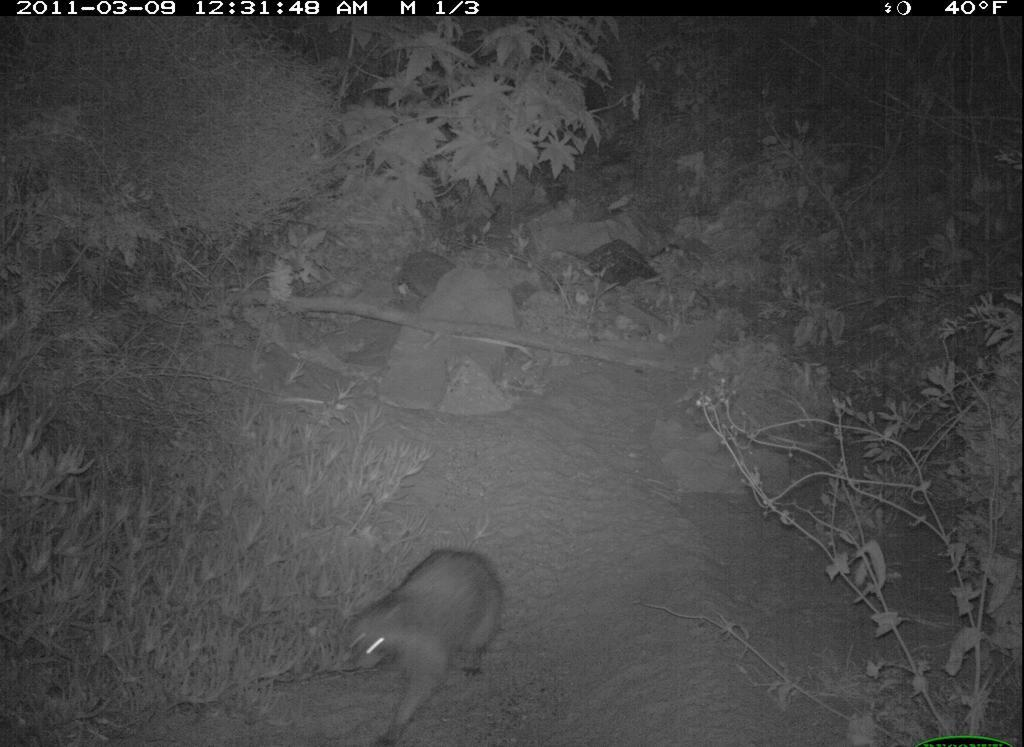raccoon: (331, 538, 504, 747)
